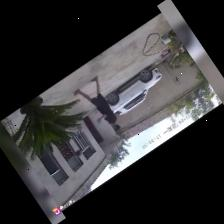person: (74, 75, 120, 130)
